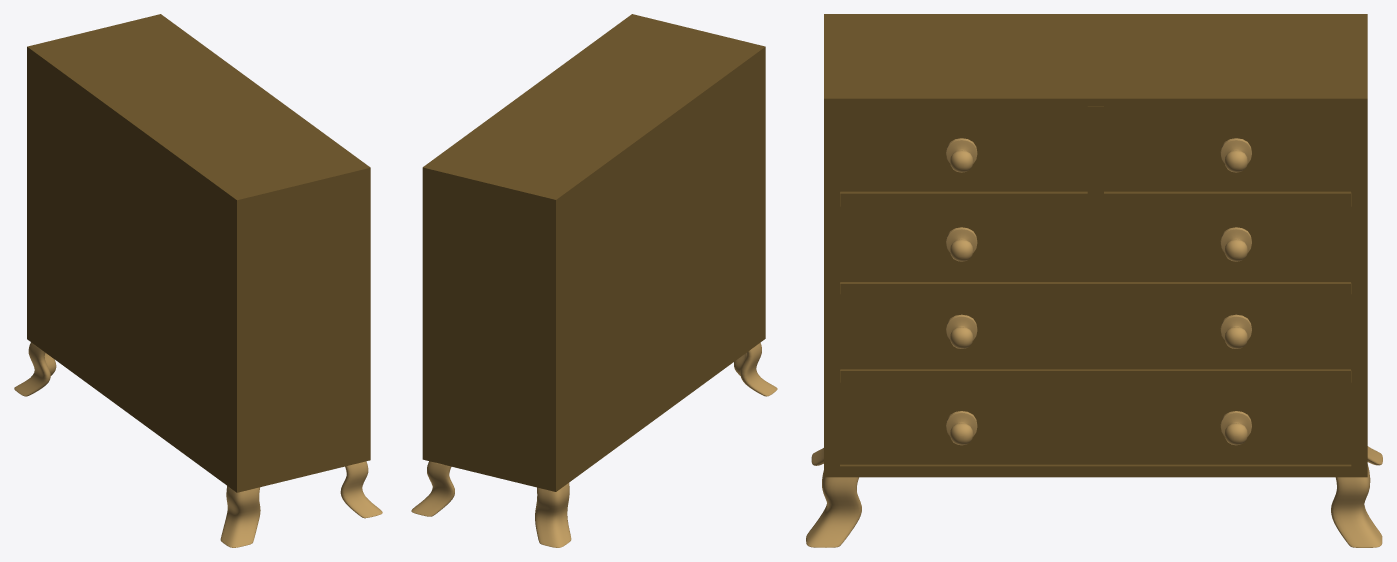
Rendered from Drawers.fbx.
3 renders of one model, left to right at view 1: azimuth 30°, elevation 25°; view 2: azimuth 150°, elevation 25°; view 3: azimuth 270°, elevation 25°, orthographic. The views are drawn at different scales.
Visible parts, largest first — view 1: pCube27; view 2: pCube27; view 3: pCube27.
Boxes of the visible parts, box(x1,y1,x2,y2) form: pCube27: box(14, 14, 382, 547); pCube27: box(411, 14, 777, 547); pCube27: box(806, 14, 1382, 547).
Bounding box in the file's own units: 4.61 × 9.33 × 10.97.
